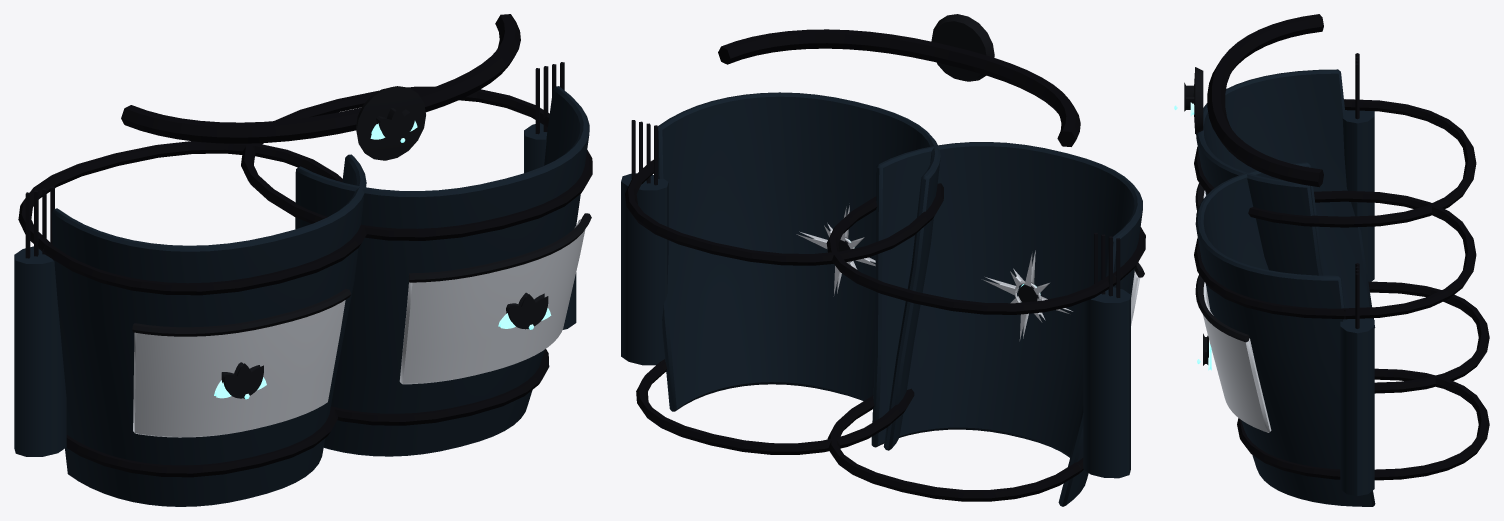
The model's file is esc_horizon_breaker_leggings.glb.
The picture shows the model from 3 angles, left to right: view 1: azimuth 30°, elevation 25°; view 2: azimuth 150°, elevation 25°; view 3: azimuth 270°, elevation 25°; orthographic projection. The views are drawn at different scales.
Parts seen in each view (by area): view 1: AT_thigh_R, AT_thigh_L, esc_horizon_breaker_leggings; view 2: AT_thigh_L, AT_thigh_R, esc_horizon_breaker_leggings; view 3: AT_thigh_L, AT_thigh_R, esc_horizon_breaker_leggings.
Part boxes in pixels (x1,y1,x2,y2): AT_thigh_R: [14, 141, 366, 506]; AT_thigh_L: [241, 62, 592, 456]; esc_horizon_breaker_leggings: [121, 14, 520, 160]; AT_thigh_L: [621, 92, 943, 454]; AT_thigh_R: [826, 142, 1145, 506]; esc_horizon_breaker_leggings: [718, 14, 1080, 341]; AT_thigh_L: [1194, 162, 1489, 506]; AT_thigh_R: [1194, 53, 1489, 393]; esc_horizon_breaker_leggings: [1174, 14, 1323, 187].
Bounding box in the file's own units: 0.5454 × 0.3851 × 0.316.
